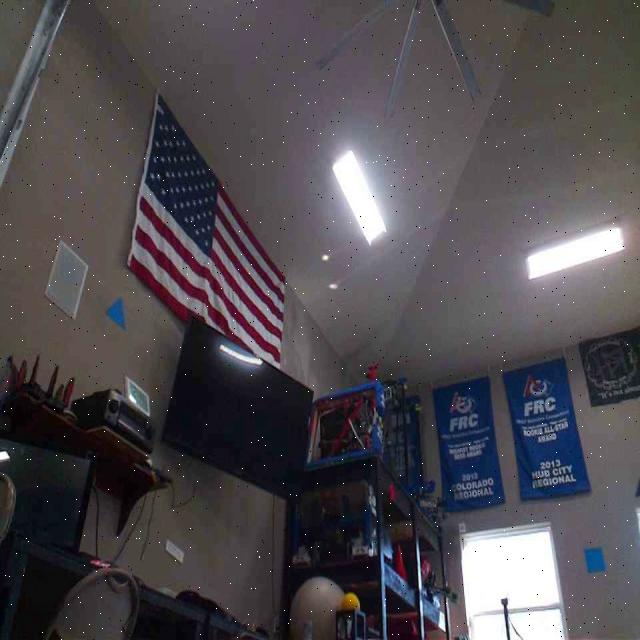square_blue: (582, 546, 607, 572)
triangle_blue: (104, 294, 126, 328)
